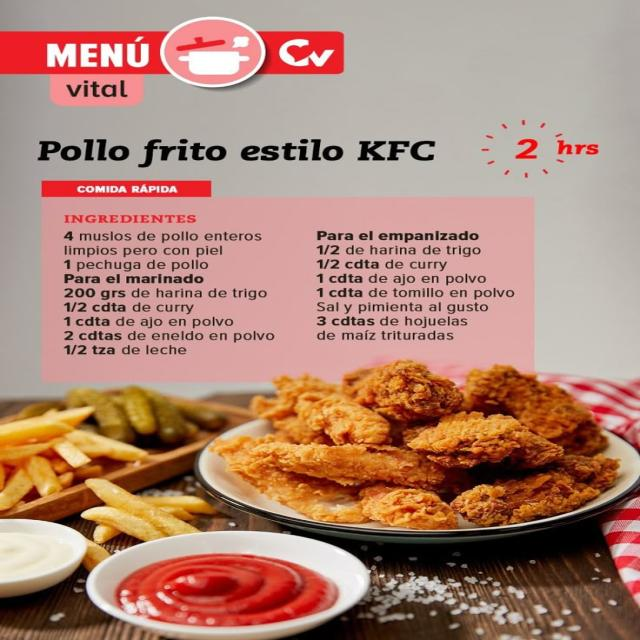pollo: (217, 360, 640, 528)
